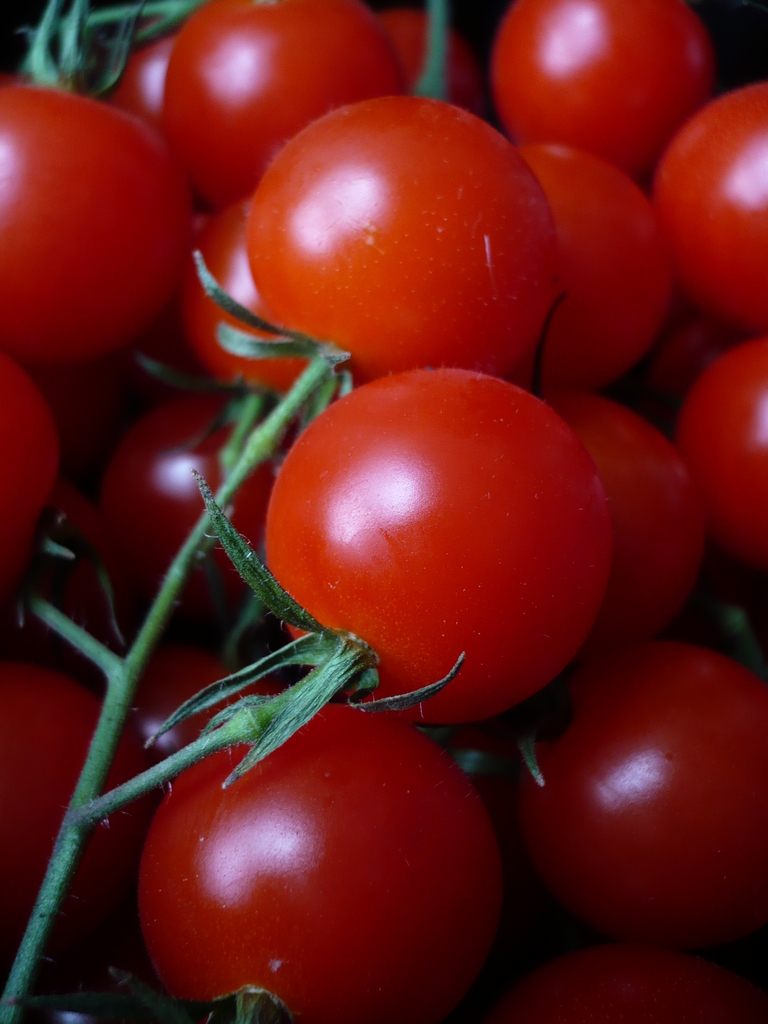Tomato: (0, 0, 768, 1022)
